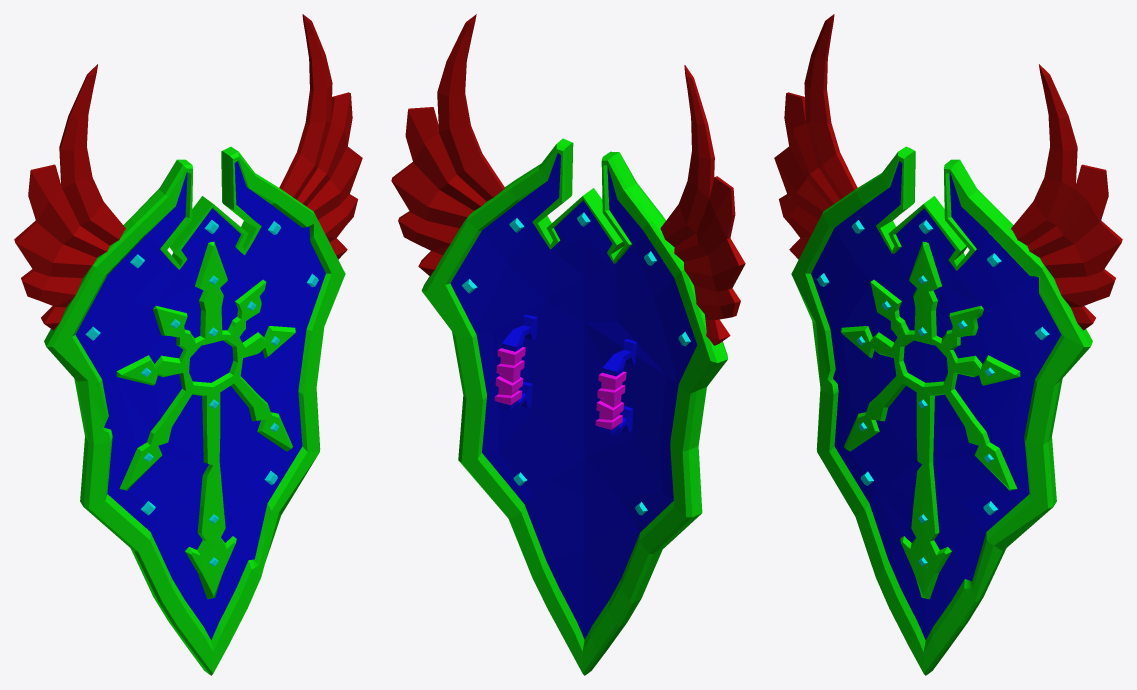
The model's file is Shield_Masterwork_Ornate.fbx.
The picture shows the model from 3 angles, left to right: view 1: azimuth 30°, elevation 25°; view 2: azimuth 150°, elevation 25°; view 3: azimuth 330°, elevation 25°; orthographic projection.
Parts seen in each view (by area): view 1: SM_Wep_Shield_Ornate_01; view 2: SM_Wep_Shield_Ornate_01; view 3: SM_Wep_Shield_Ornate_01.
Boxes of the visible parts, <box> form: SM_Wep_Shield_Ornate_01: <box>14,14,362,675</box>; SM_Wep_Shield_Ornate_01: <box>391,14,745,675</box>; SM_Wep_Shield_Ornate_01: <box>774,14,1122,675</box>.
Bounding box in the file's own units: 0.928 × 1.6 × 0.1687.
